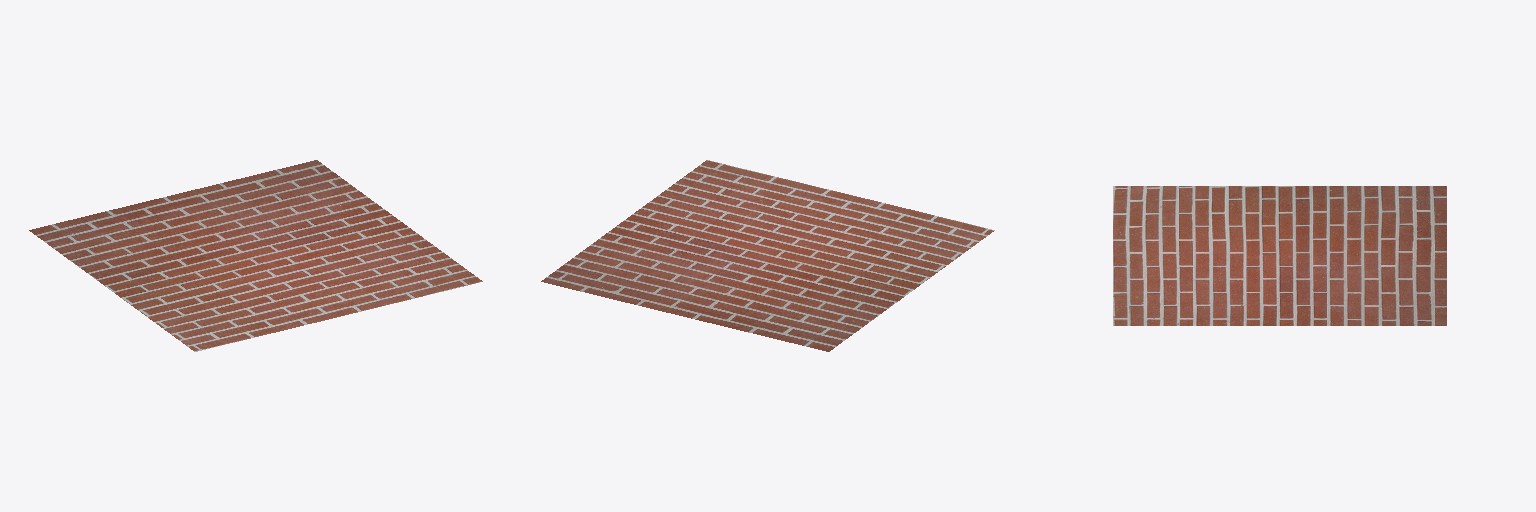
3 renders of one model, left to right at view 1: azimuth 30°, elevation 25°; view 2: azimuth 150°, elevation 25°; view 3: azimuth 270°, elevation 25°, orthographic.
Visible parts, largest first — view 1: Floor.001; view 2: Floor.001; view 3: Floor.001.
Part boxes in pixels (x1,y1,x2,y2): Floor.001: (29, 160, 482, 351); Floor.001: (541, 160, 994, 351); Floor.001: (1113, 186, 1446, 325).
Bounding box in the file's own units: 2 × 0 × 2.
Materials: 1 (1 with a texture image).